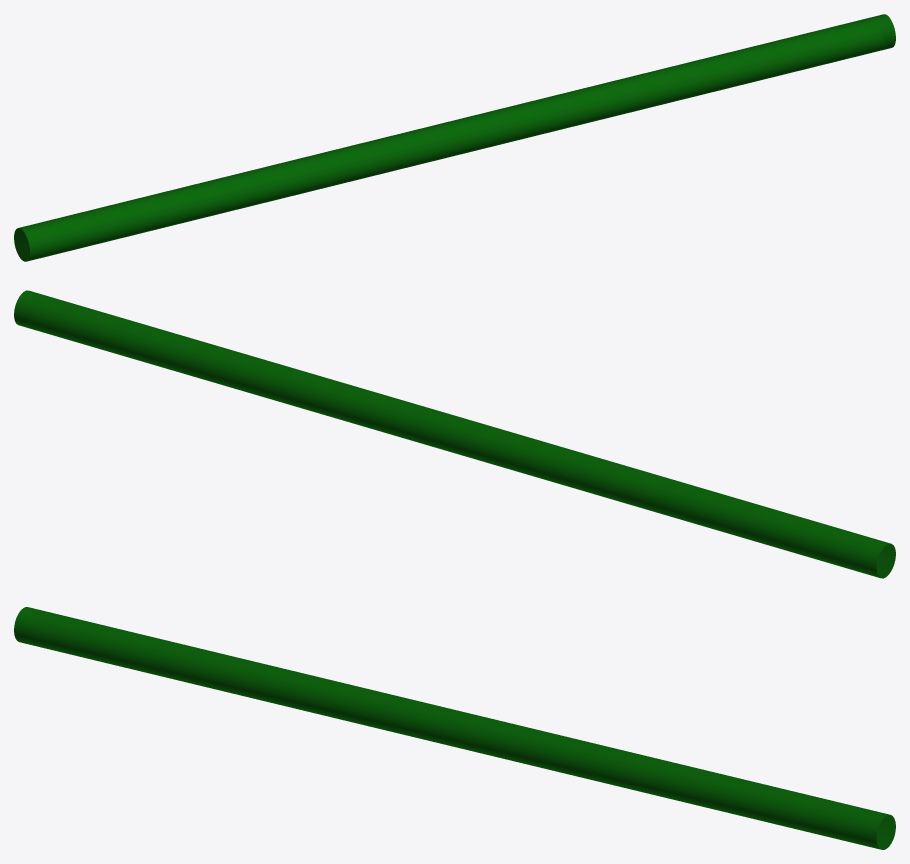
Rendered from Event_421115418_jet_7.fbx.
3 renders of one model, top to bottom at view 1: azimuth 30°, elevation 25°; view 2: azimuth 150°, elevation 25°; view 3: azimuth 330°, elevation 25°, orthographic. The views are drawn at different scales.
Visible parts, largest first — view 1: Model; view 2: Model; view 3: Model.
Boxes of the visible parts, x1,y1,x2,y2 form: Model: (14,14,895,261); Model: (14,290,895,578); Model: (14,607,895,849).
Bounding box in the file's own units: 1.13 × 0.0677 × 0.0852.
